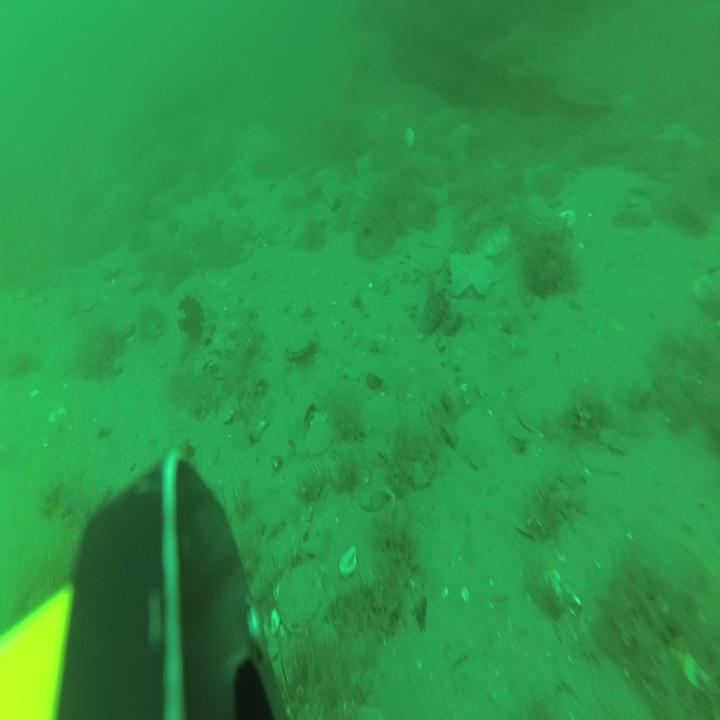scallop: (276, 568, 324, 628), (521, 192, 560, 228), (476, 220, 513, 257), (283, 318, 318, 354), (449, 120, 472, 135), (404, 124, 414, 150)
starfish: (451, 248, 503, 294)
